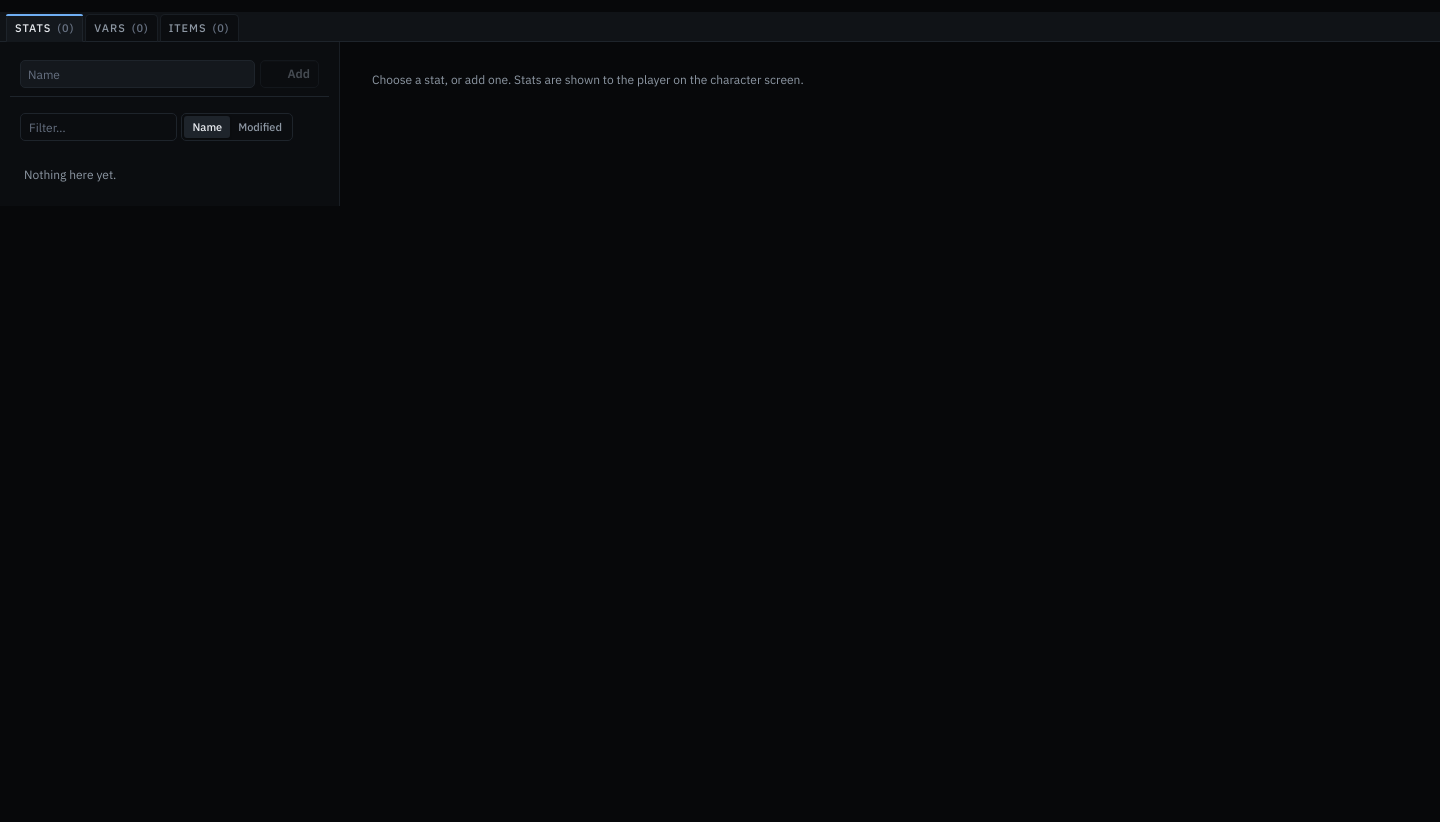
Test: StatsPanel › seeds the display name from what was typed, keeping the ink name separate
Type "Nerve Left" into the field named "New stat name" at (137, 74), box [20,60,254,88]
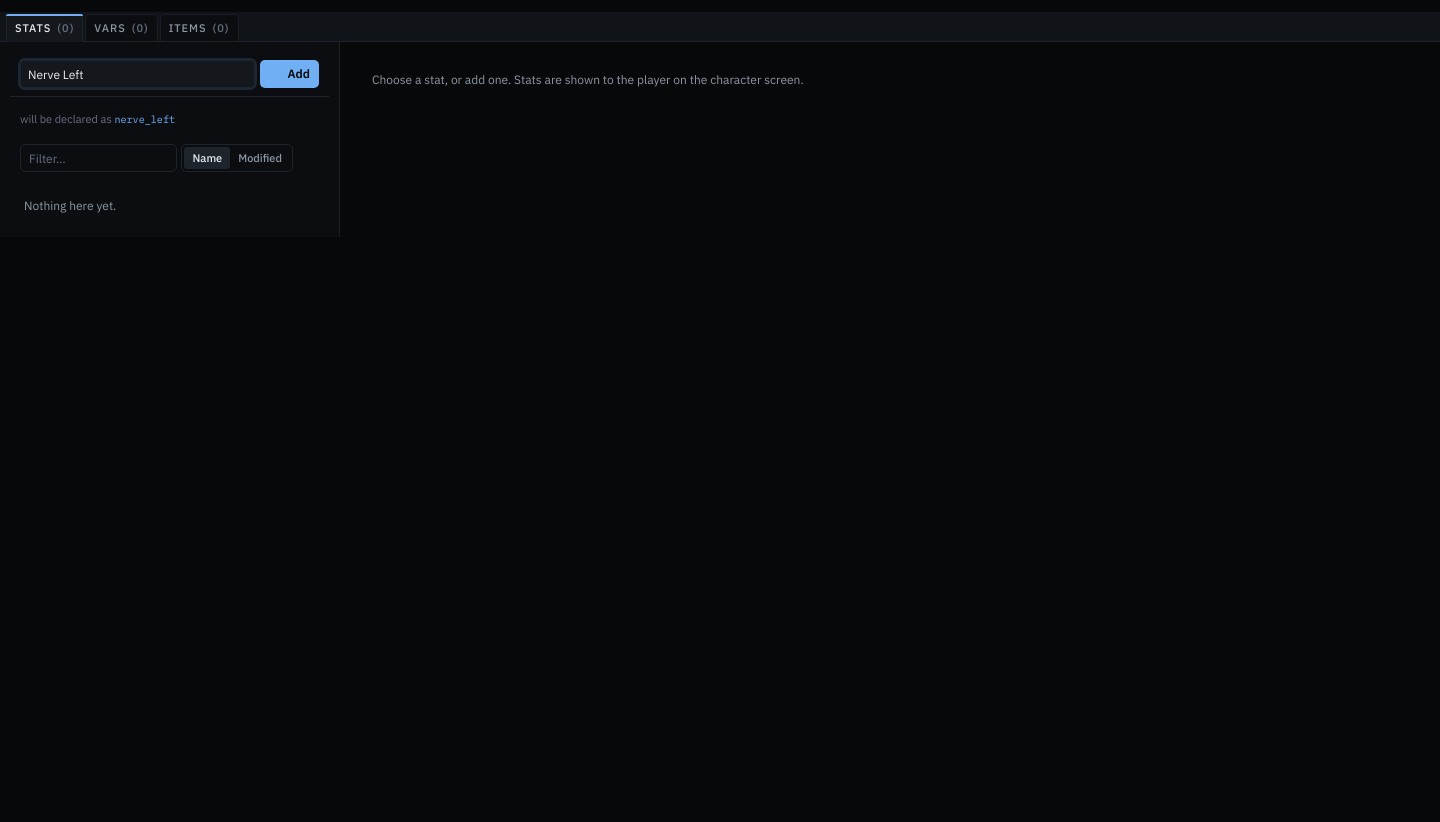
Click the button "Add" at (289, 74), box [260,60,319,88]
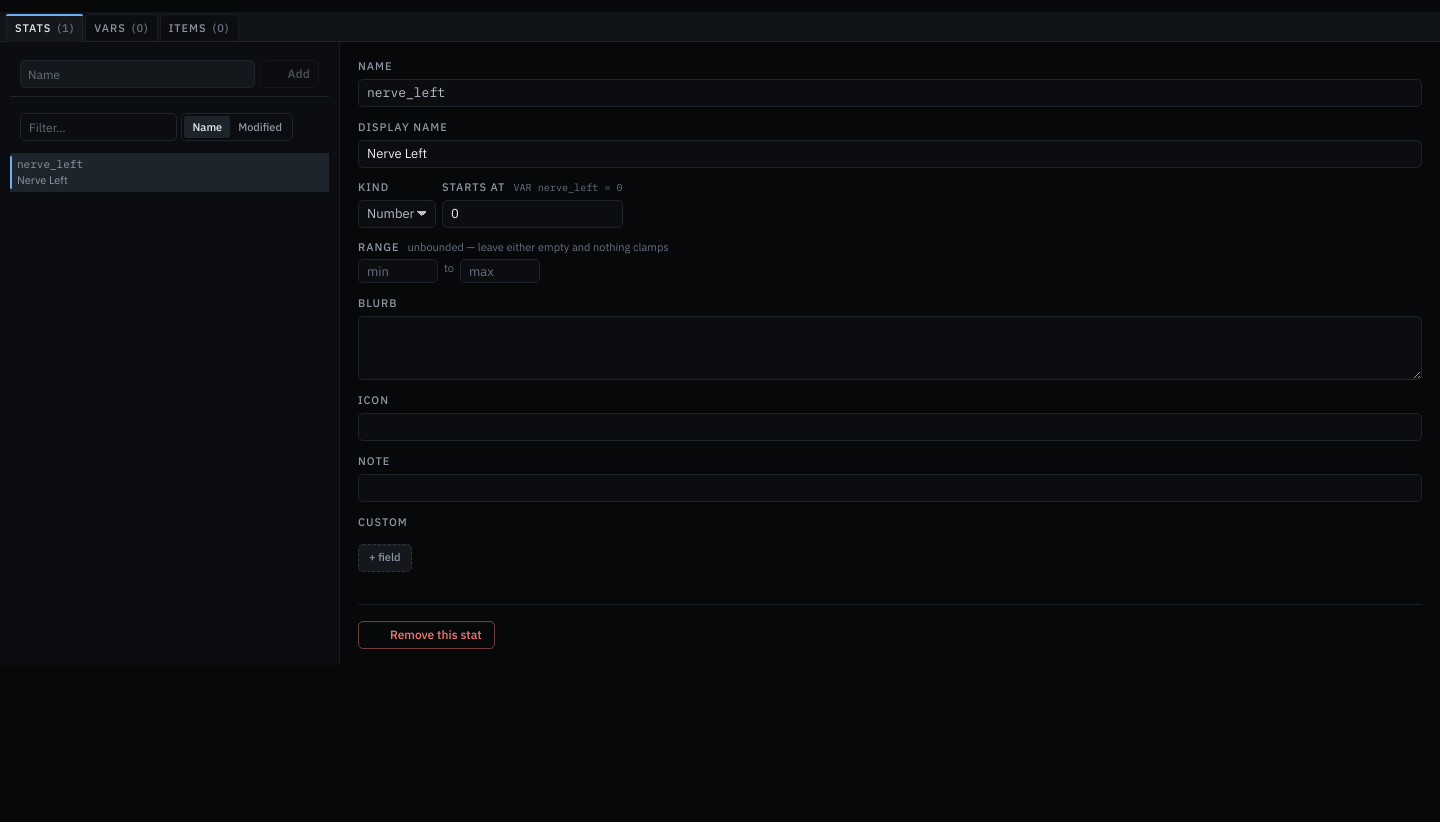
Check: the 2nd field showing "nerve_left" is shown, box [358,79,1422,107]
Check: the field showing "Nerve Left" is shown, box [358,140,1422,168]
